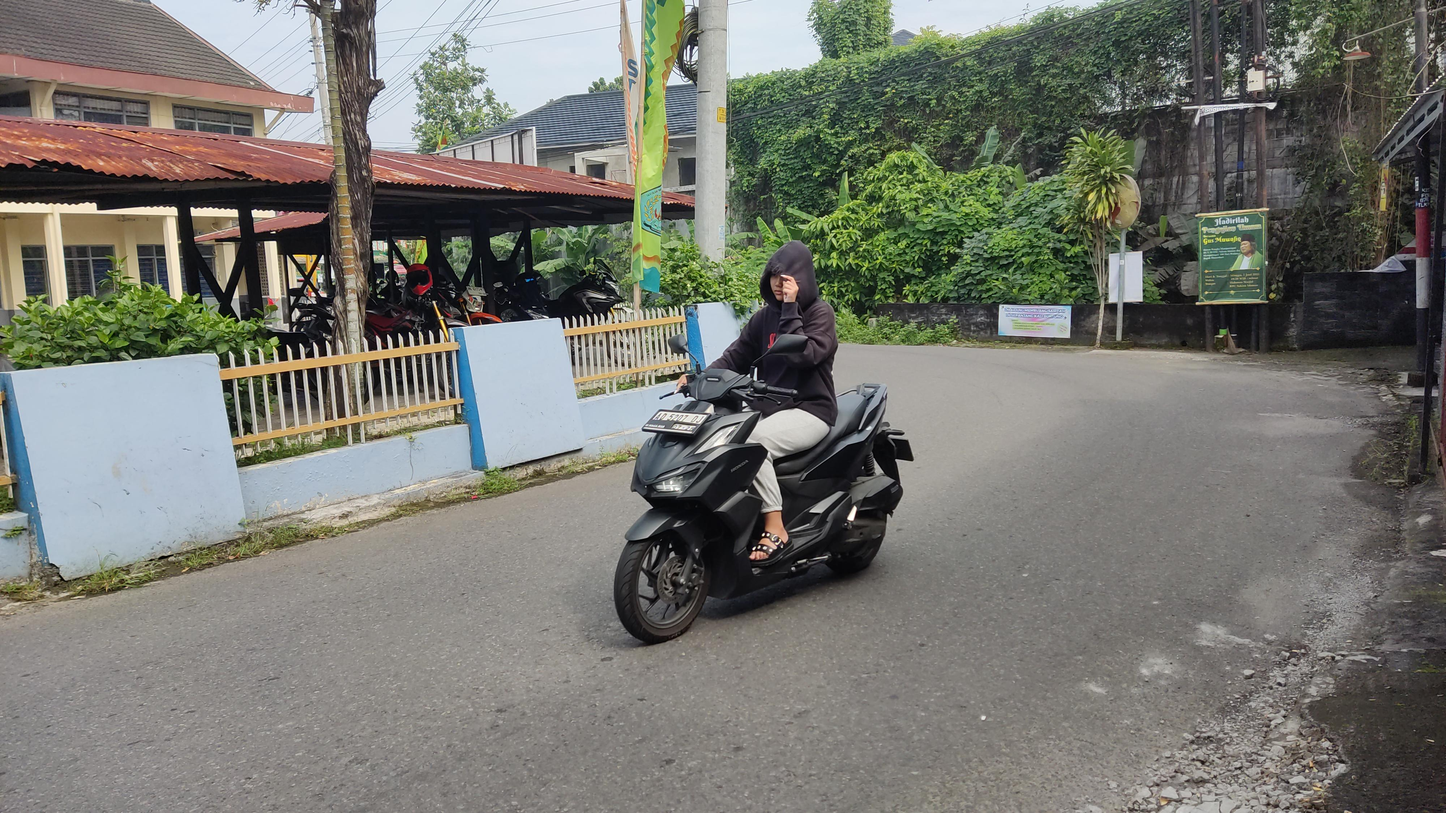nohelm: (759, 238, 819, 304)
riding: (612, 238, 917, 644)
